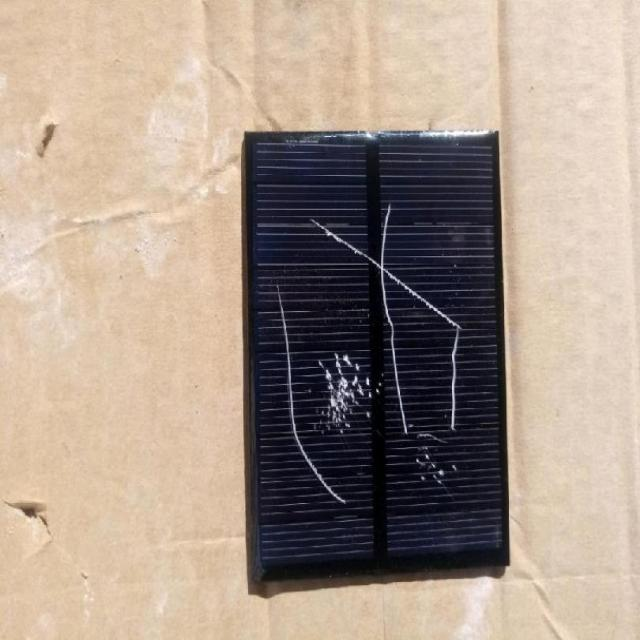faulty: (241, 132, 507, 565)
